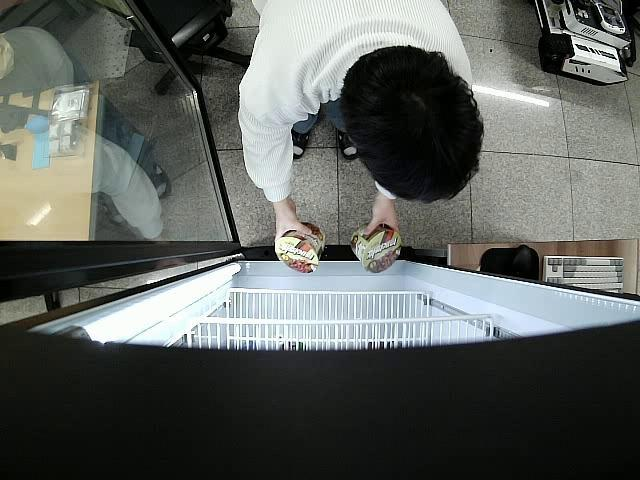03_chapagetti_L: (276, 225, 325, 275), (350, 226, 400, 274)
